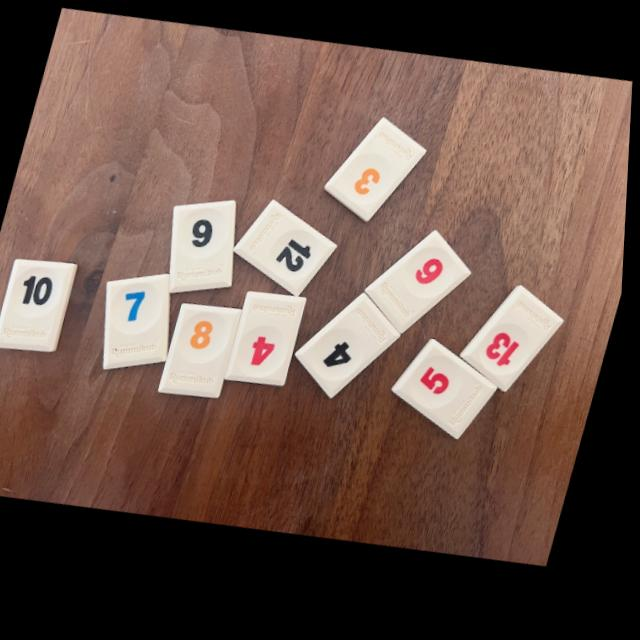black_10: (0, 260, 79, 353)
black_12: (237, 205, 339, 302)
black_4: (299, 301, 404, 405)
black_9: (172, 206, 237, 297)
blue_7: (108, 279, 173, 371)
orange_3: (326, 126, 428, 230)
orange_8: (162, 308, 245, 402)
red_13: (463, 297, 567, 403)
red_4: (228, 297, 309, 393)
red_5: (396, 348, 501, 449)
red_9: (368, 240, 474, 342)
